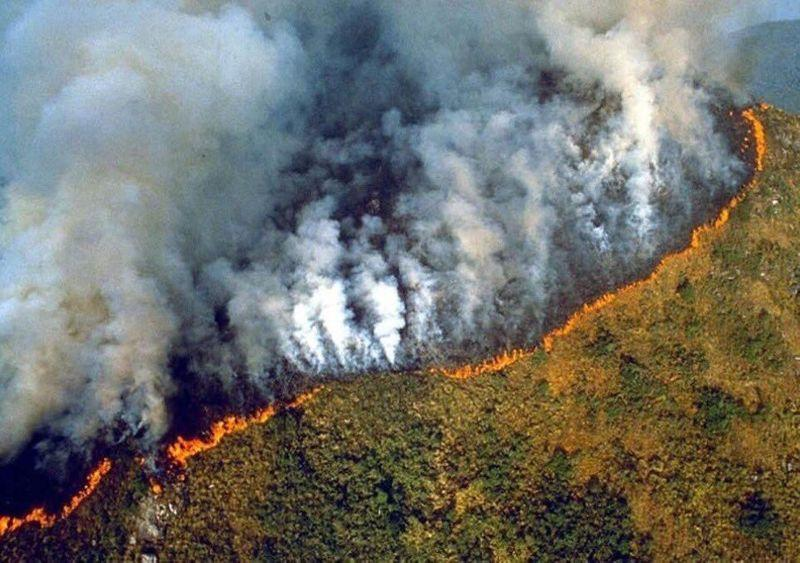fire: (310, 248, 648, 389), (0, 401, 237, 539), (643, 67, 800, 269)
